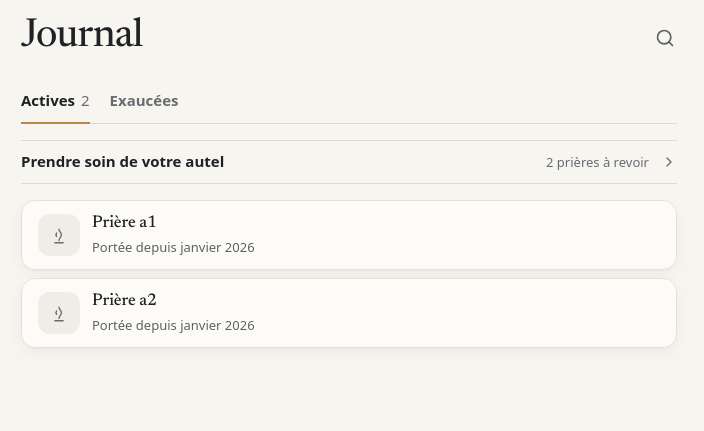
Test: Journal — counts & zero states › a filtered zero offers Clear filters — never another Add prayer nudge
The image size is (704, 431).
Click the button named "Rechercher...": (665, 38) 643,16 -> 687,60
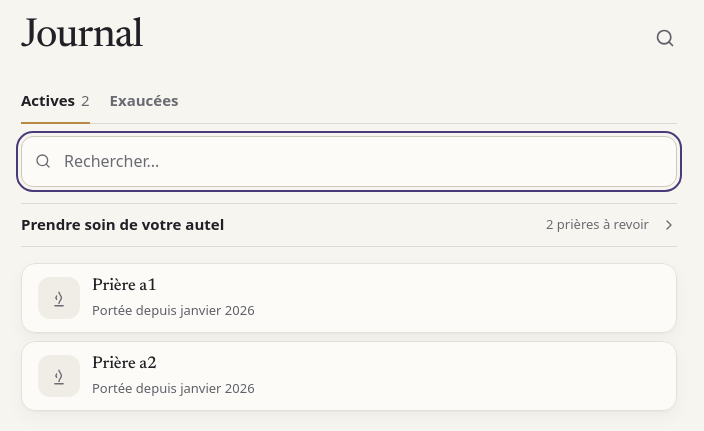
In the field with placeholder "Rechercher...": (349, 161) 21,136 -> 677,187, type "zzz"
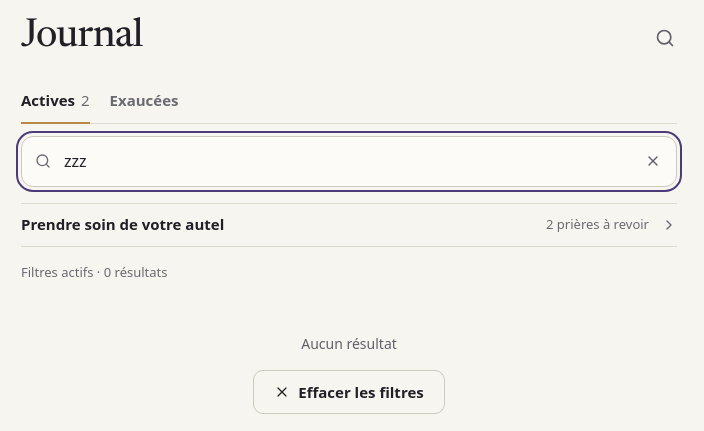
expect the text "Effacer les filtres" is shown: met, box 298,383 -> 424,401
# Clearing restores the list.
Click the button "Effacer les filtres": (349, 392) 253,370 -> 445,414
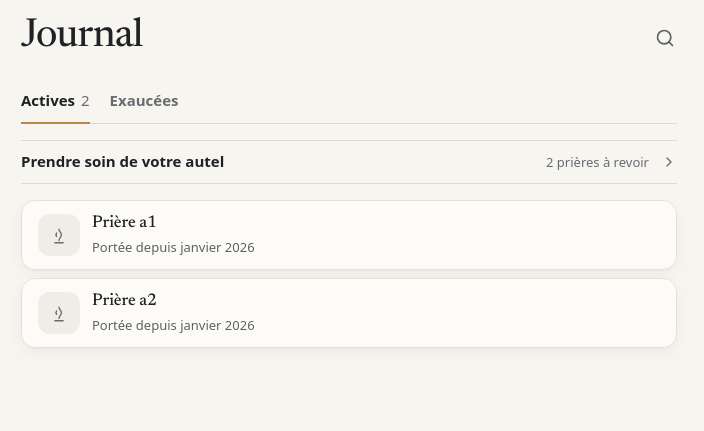
expect the text "Prière a1" is shown: met, box 92,215 -> 157,232
